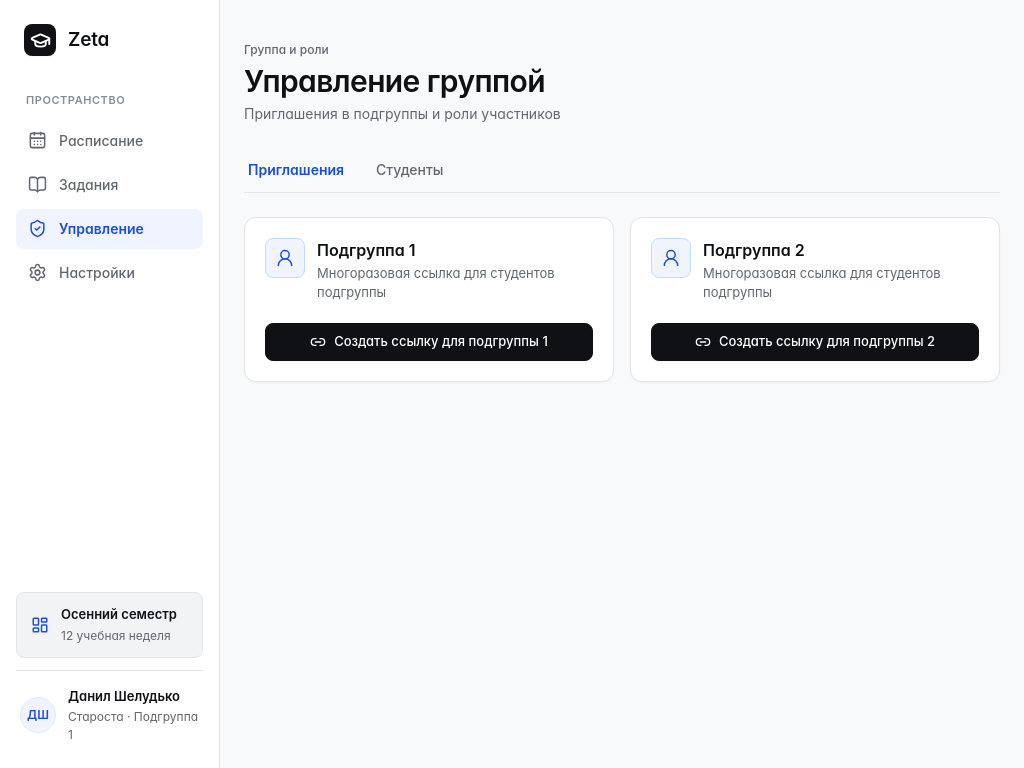
it: AdminPage › creates, copies and revokes an invitation link with accessible feedback
The image size is (1024, 768).
Expected: the tab "Приглашения" is shown, [244, 148, 348, 192]
Click the button "Создать ссылку для подгруппы 1" at (429, 342), box [265, 322, 593, 360]
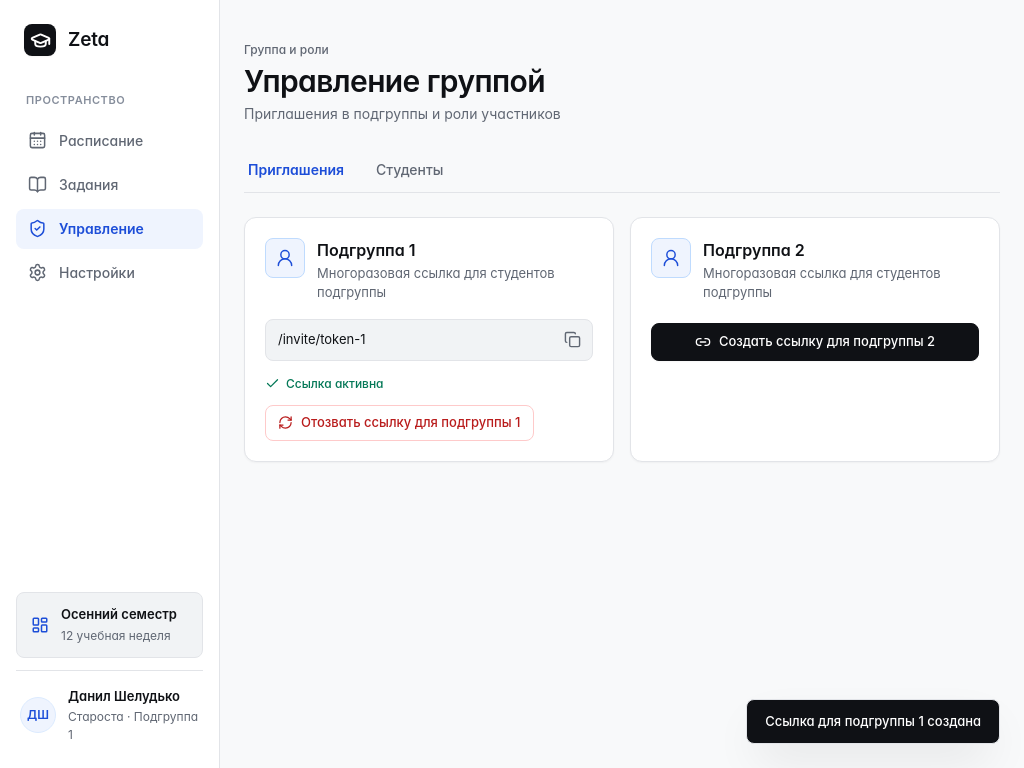
Click the button named "Копировать ссылку для подгруппы 1" at (572, 340), box [552, 320, 592, 360]
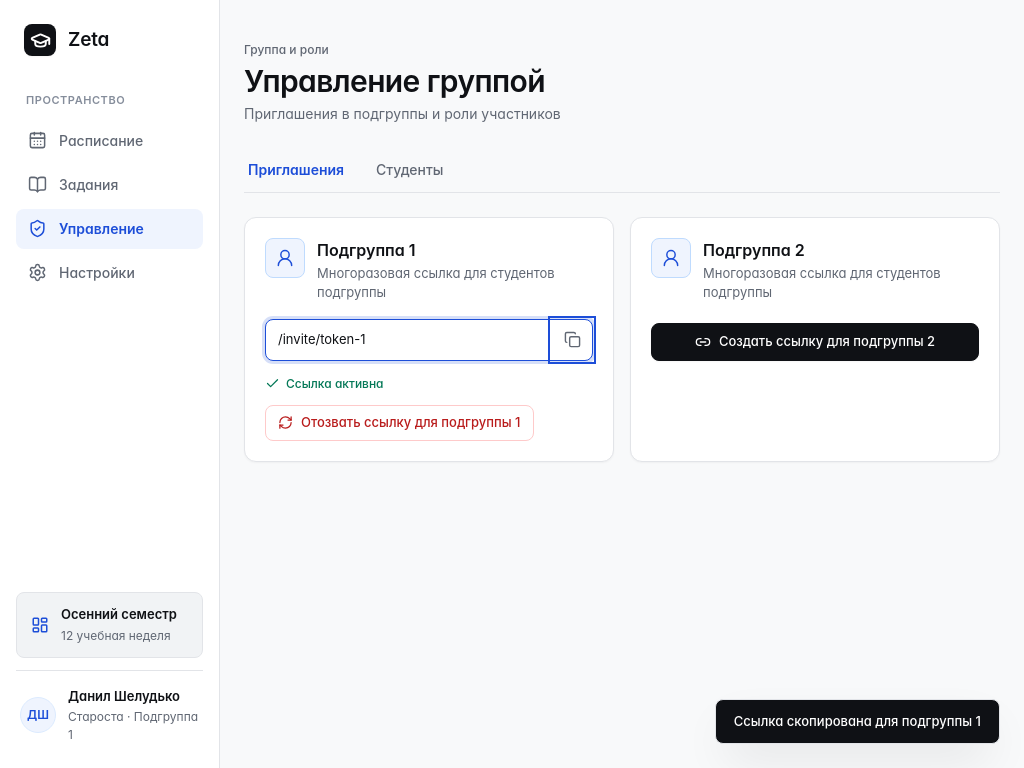
Expected: the message shows "Ссылка скопирована", [734, 712, 981, 728]
Click the button "Отозвать ссылку для подгруппы 1" at (399, 422), box [265, 404, 534, 440]
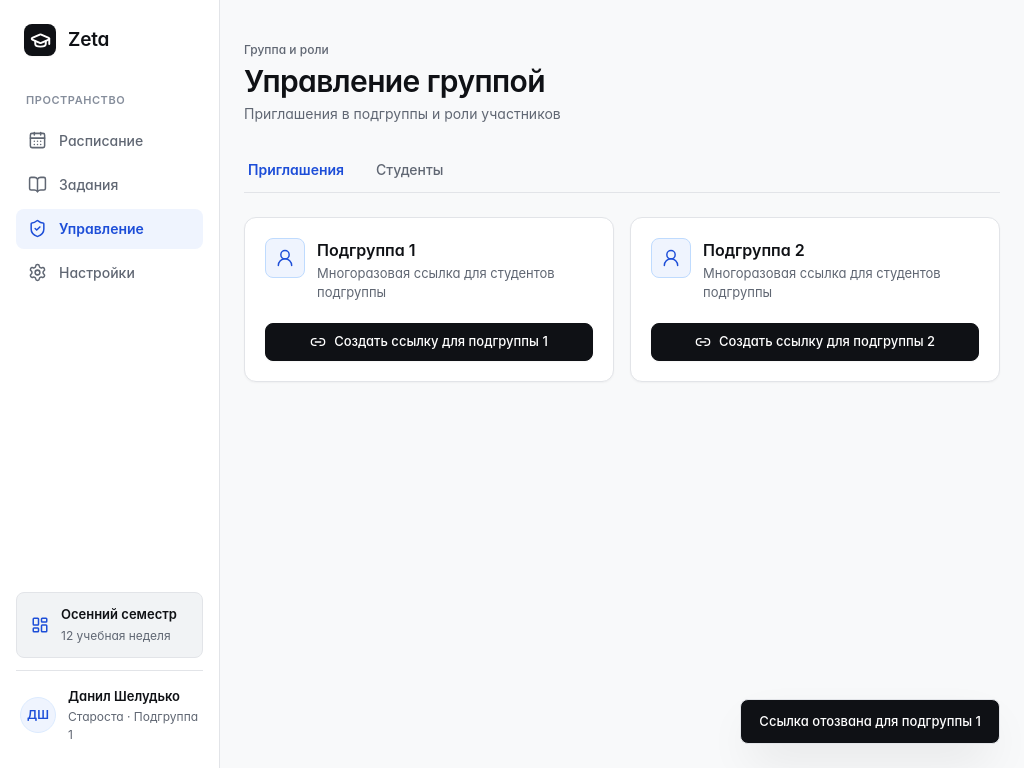
Expected: the message labelled "Ссылка для подгруппы 1" is not shown
Expected: the message shows "Ссылка отозвана", [759, 712, 981, 728]
